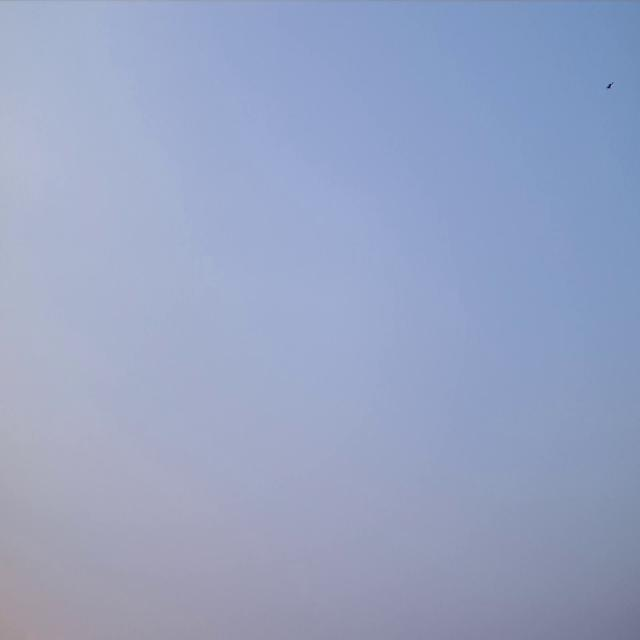UAV: (606, 80, 613, 90)
